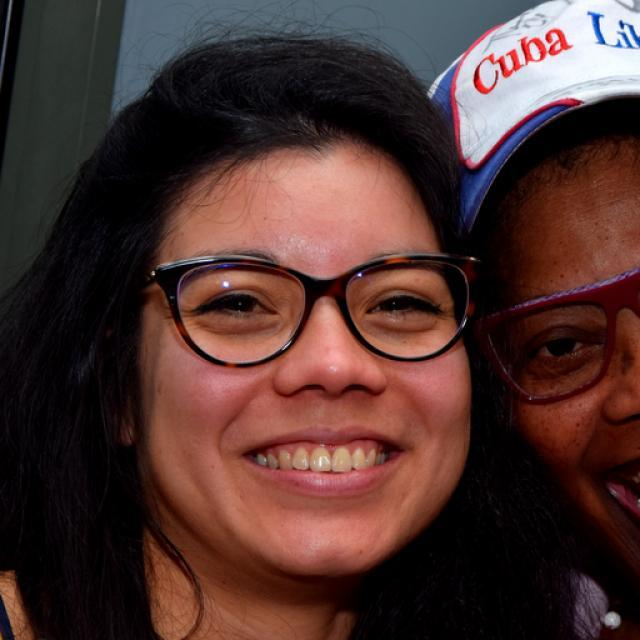happy: (141, 148, 472, 574), (485, 132, 638, 588)
